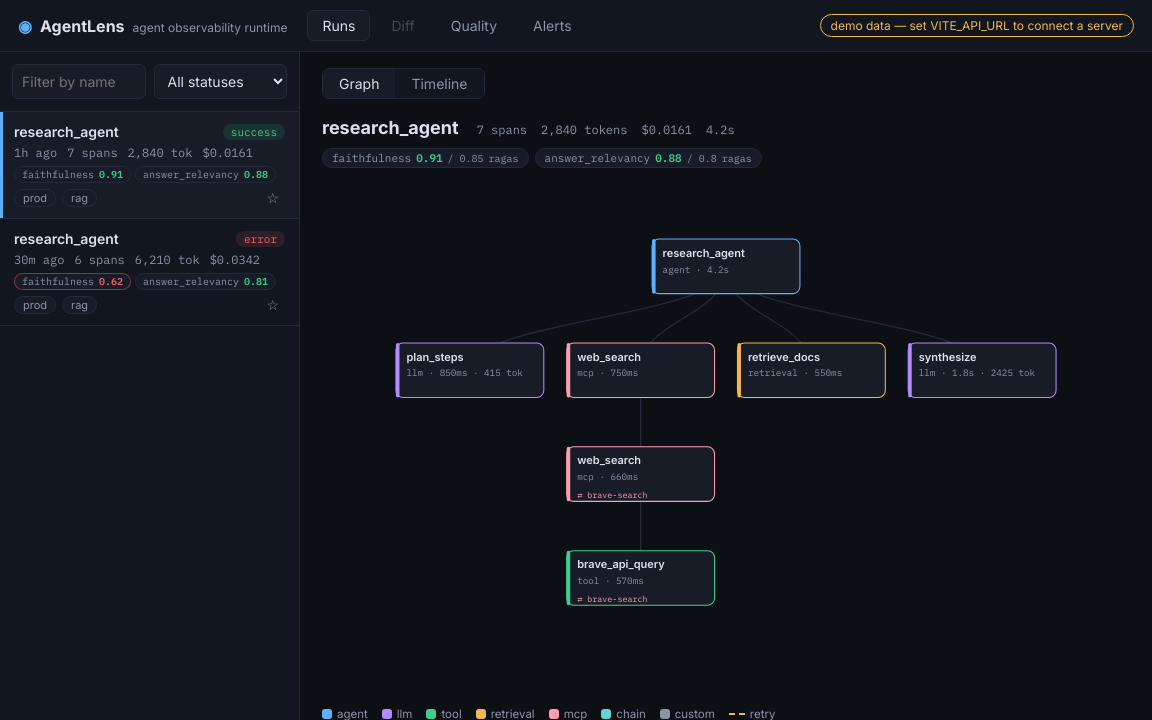
App in demo mode › the diff tab stays disabled until two runs are pinned
expect the button "Diff" is disabled: met, box [376,10,430,41]
Click the button titled "Pin for diff" below "success" at (273, 198), box [260,189,285,207]
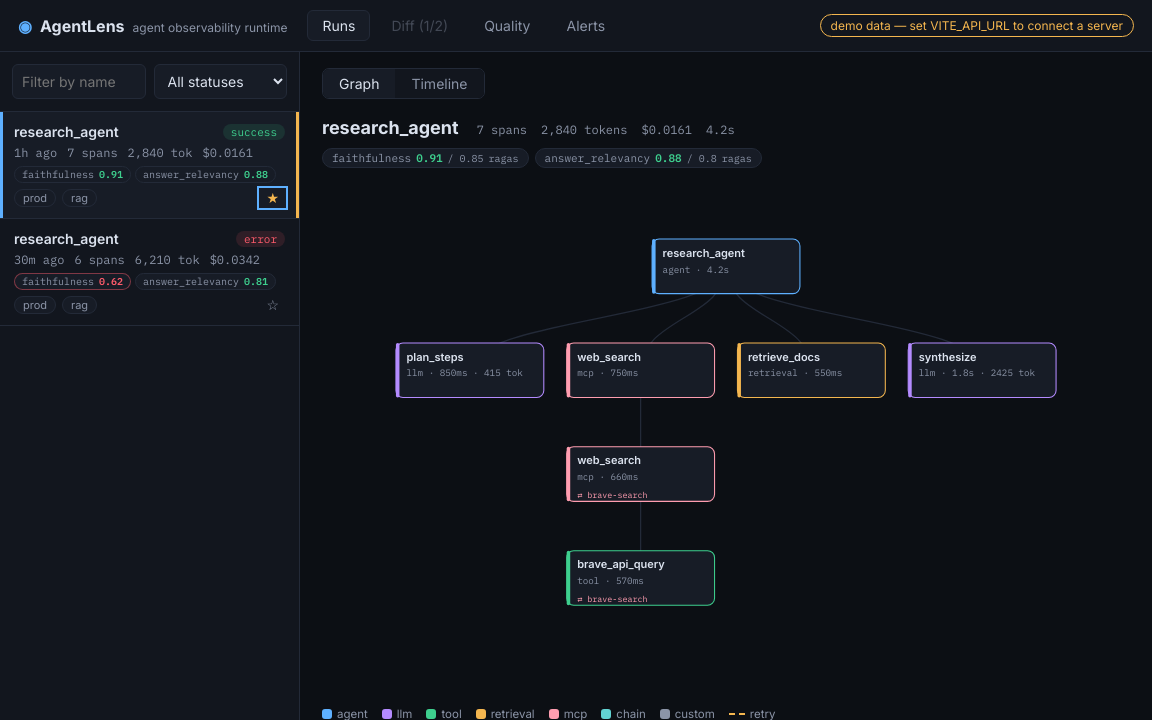
expect the button "Diff (1/2)" is disabled: met, box [376,10,463,41]
Click the button titled "Pin for diff" at (273, 305), box [260,296,285,314]
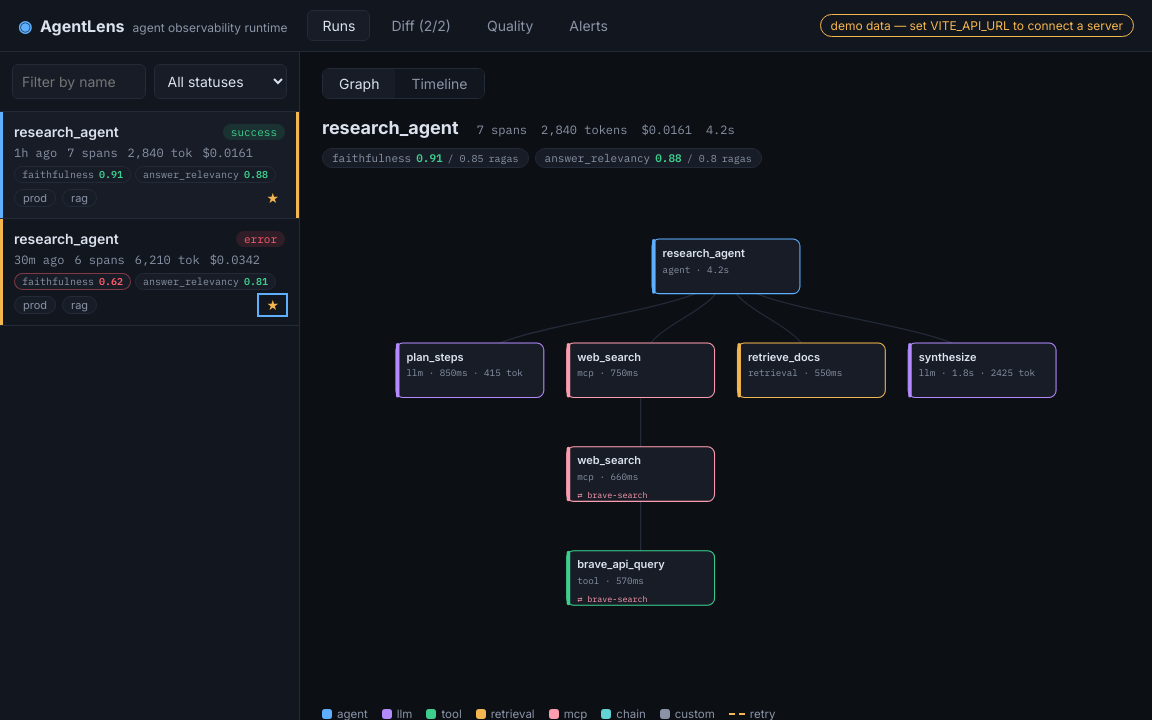
expect the button "Diff (2/2)" is enabled: met, box [376,10,466,41]
